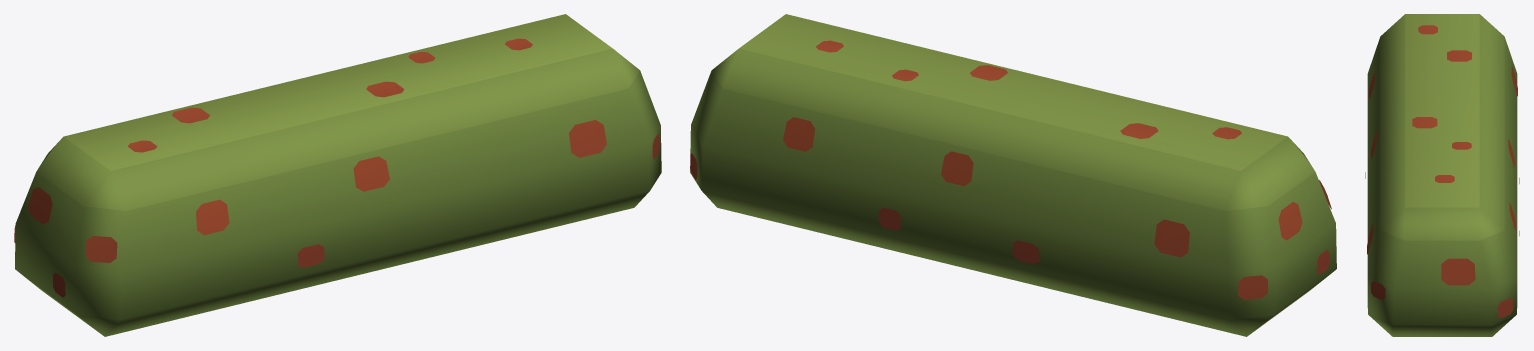
File: hedge_small_x4.fbx
3 views of the same model, side by side, from view 1: azimuth 30°, elevation 25°; view 2: azimuth 150°, elevation 25°; view 3: azimuth 270°, elevation 25° (orthographic). The views are drawn at different scales.
Visible parts, largest first — view 1: hedge_small_x4; view 2: hedge_small_x4; view 3: hedge_small_x4.
Boxes of the visible parts, left/top/right/bottom form: hedge_small_x4: left=14, top=14, right=661, bottom=336; hedge_small_x4: left=690, top=14, right=1336, bottom=336; hedge_small_x4: left=1365, top=14, right=1519, bottom=336.
Bounding box in the file's own units: 431 × 112 × 124.
